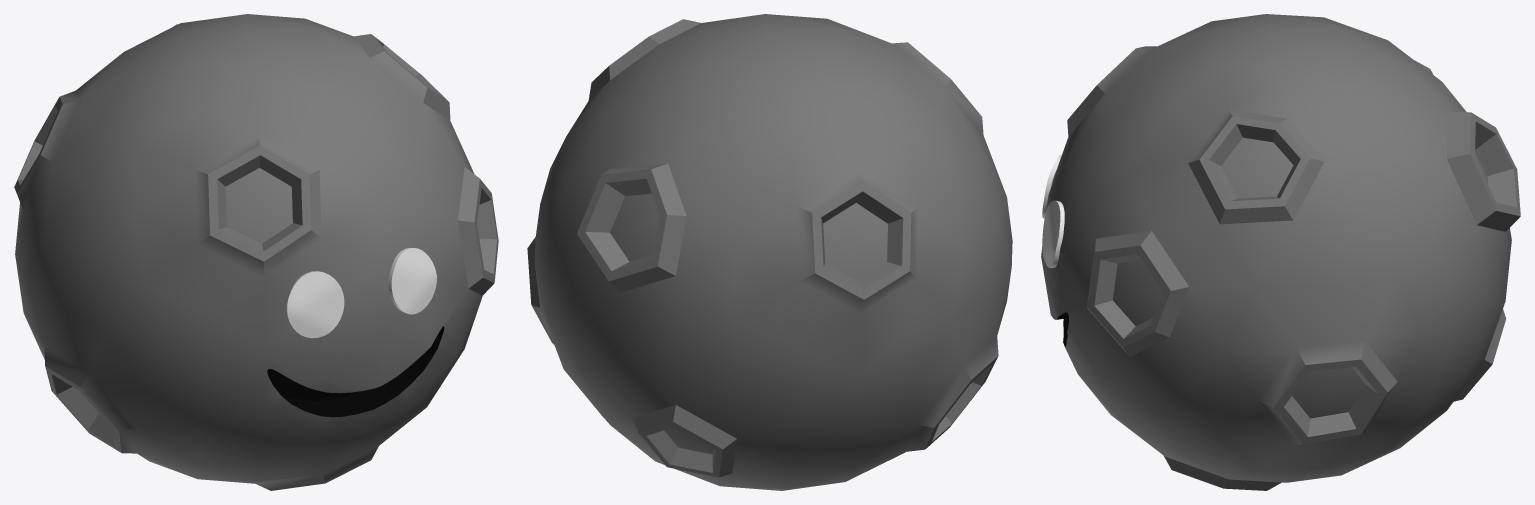
Rendered from new_moon_face.gltf.
3 renders of one model, left to right at view 1: azimuth 30°, elevation 25°; view 2: azimuth 150°, elevation 25°; view 3: azimuth 270°, elevation 25°, orthographic.
Parts seen in each view (by area): view 1: Icosphere.008, Circle.2105; view 2: Icosphere.008; view 3: Icosphere.008, Circle.2105.
Boxes of the visible parts, <box> form: Icosphere.008: <box>14,14,498,490</box>; Circle.2105: <box>286,247,436,338</box>; Icosphere.008: <box>527,14,1012,490</box>; Icosphere.008: <box>1041,14,1520,490</box>; Circle.2105: <box>1042,155,1064,268</box>.
Size of the model in its own units: 2.03 by 2.04 by 2.03.
Materials: 1 (1 with a texture image).
